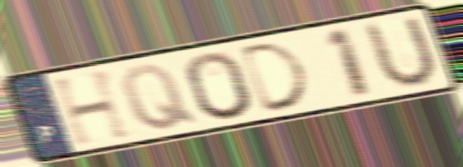1: (324, 25, 379, 100)
D: (237, 38, 314, 117)
H: (48, 65, 137, 149)
O: (182, 50, 257, 124)
Q: (117, 62, 201, 133)
U: (362, 12, 441, 93)
